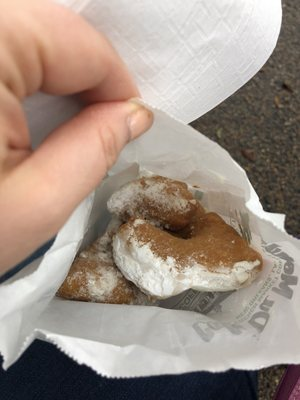salad: (108, 175, 263, 299)
